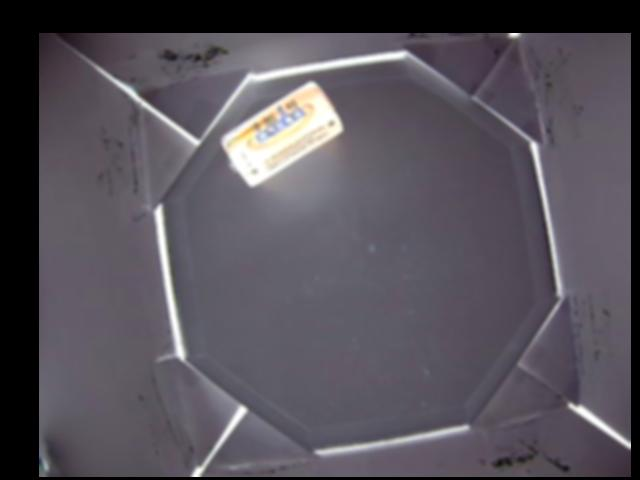Battery: (217, 78, 343, 188)
